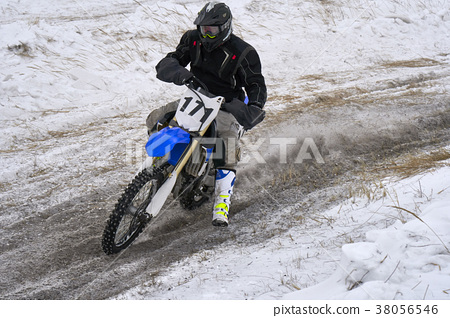helmet: (195, 2, 237, 42)
